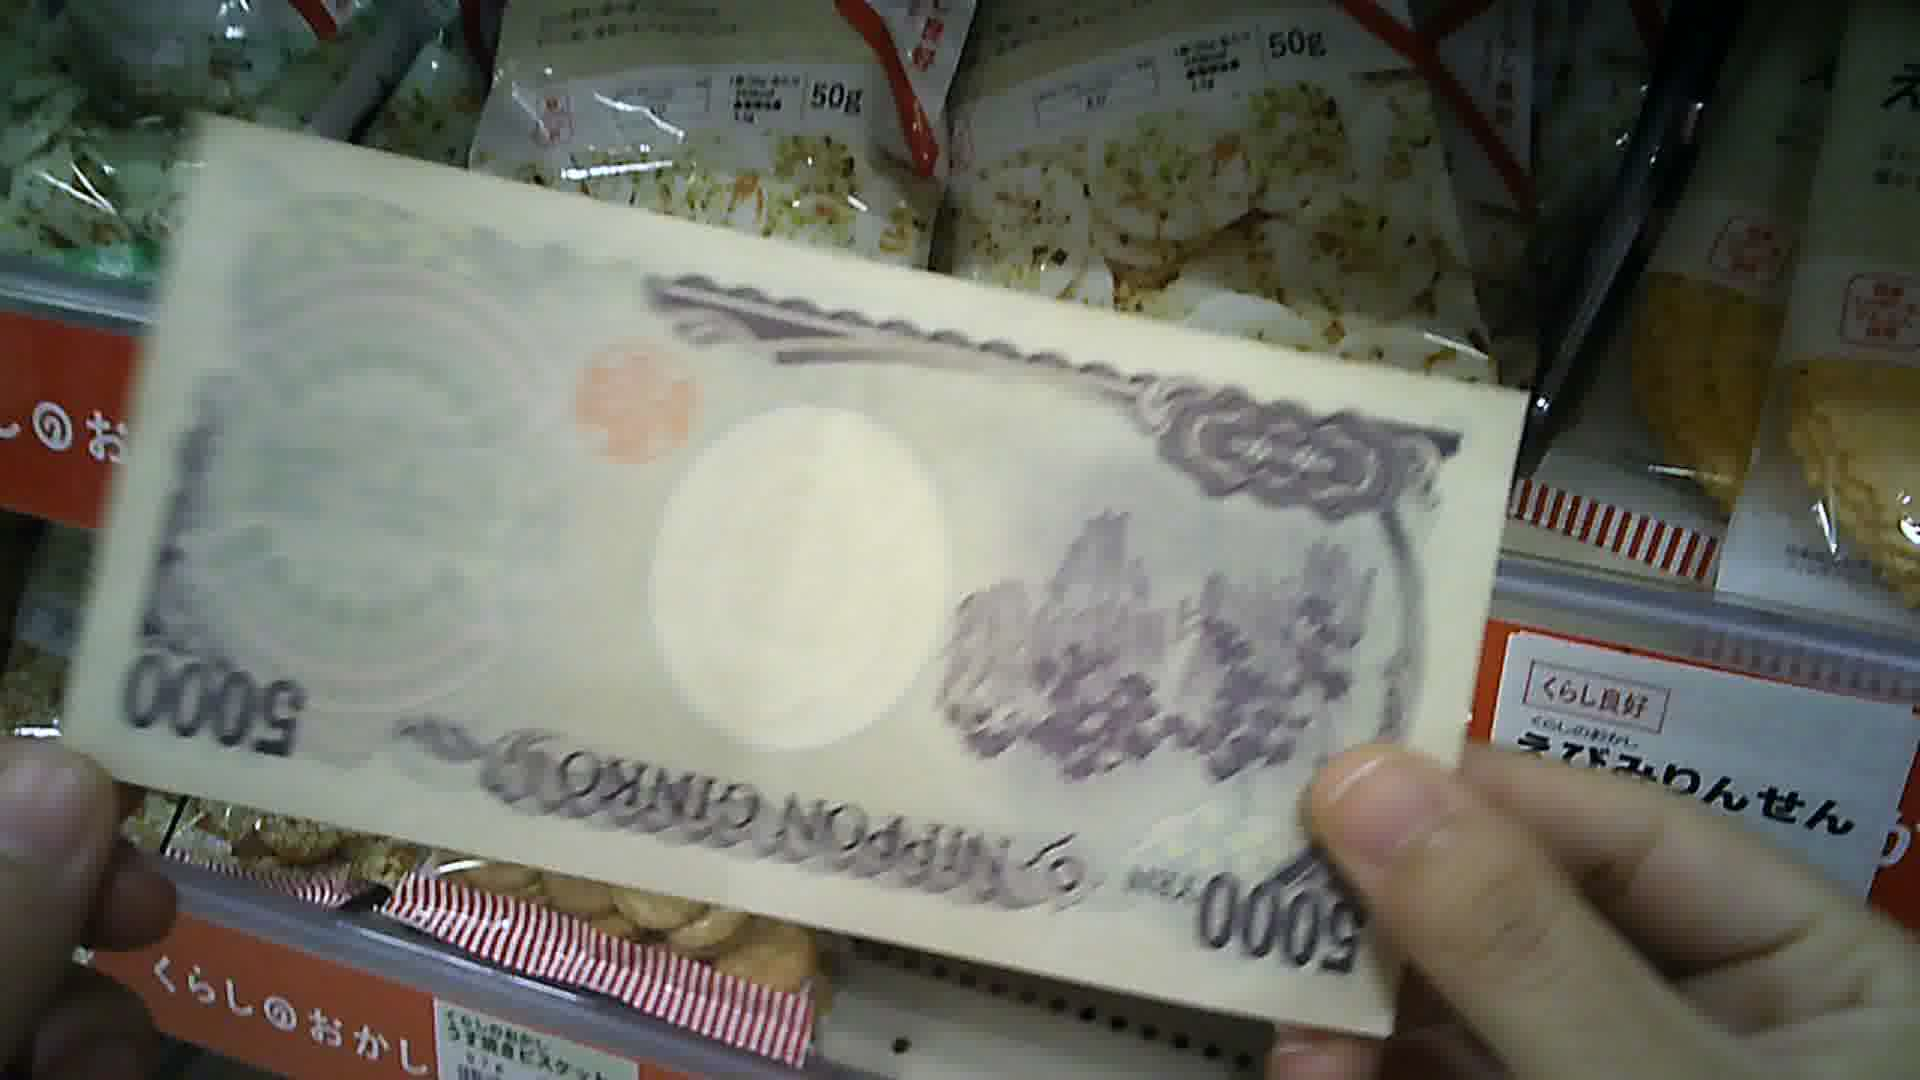5,000 Yen: (47, 91, 1503, 1036)
